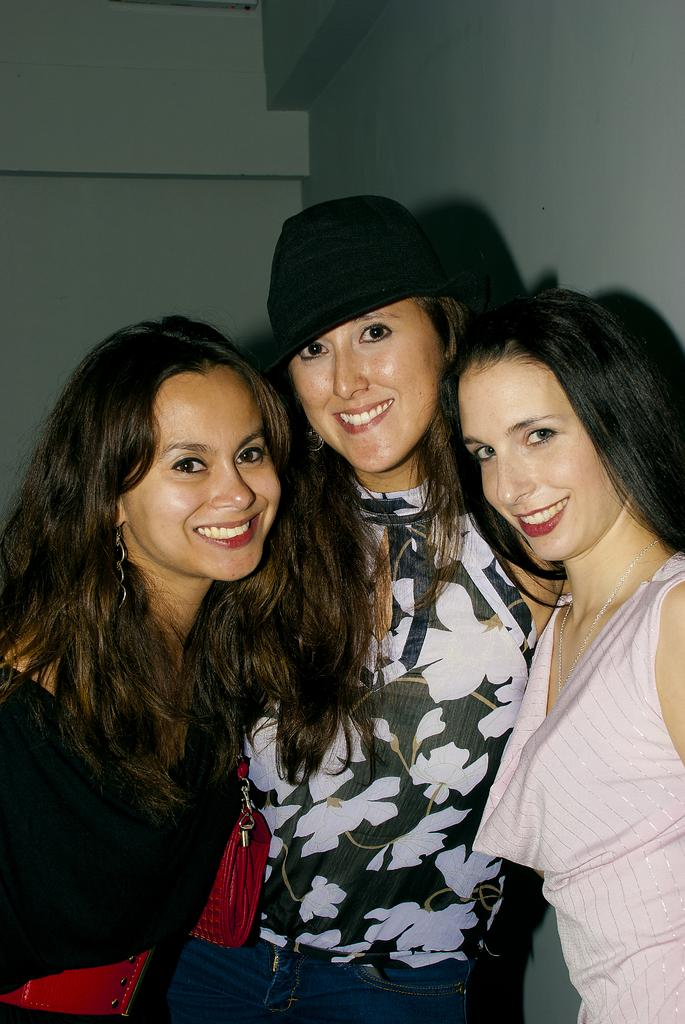Hat: (255, 192, 453, 381)
